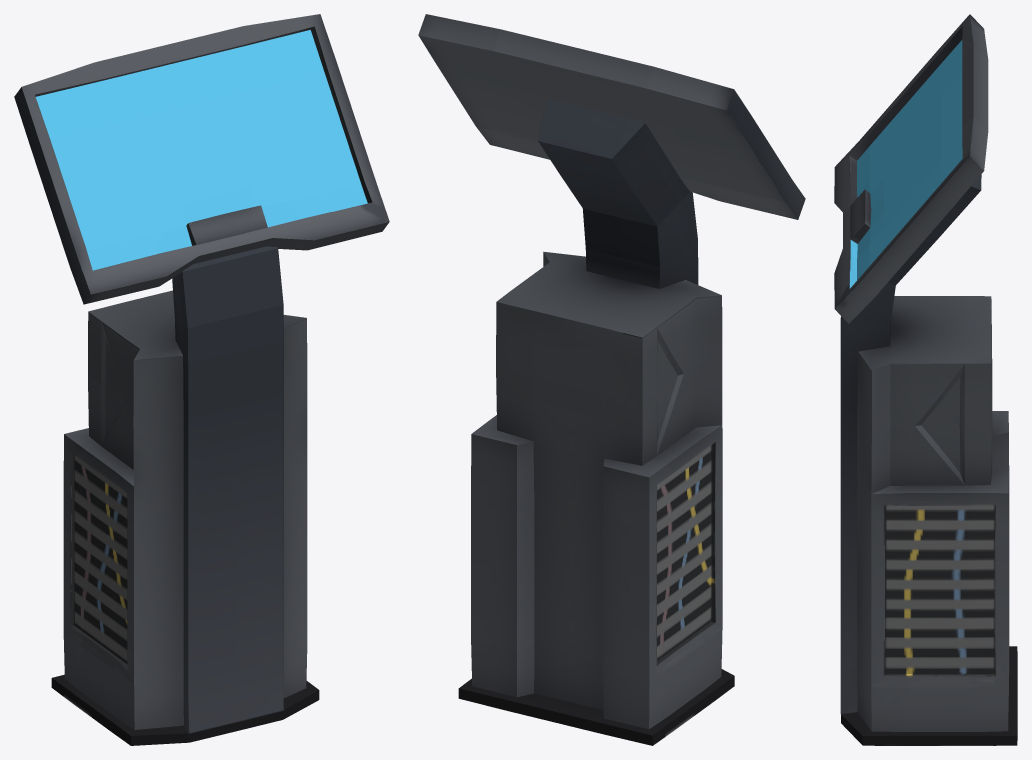
The model's file is TerminalFbx.fbx.
3 views of the same model, side by side, from view 1: azimuth 30°, elevation 25°; view 2: azimuth 150°, elevation 25°; view 3: azimuth 270°, elevation 25° (orthographic). The views are drawn at different scales.
Parts seen in each view (by area): view 1: Cube.001, Cube.002; view 2: Cube.001, Cube.002; view 3: Cube.001, Cube.002.
Boxes of the visible parts, x1,y1,x2,y2 form: Cube.001: (51,246,319,745); Cube.002: (14,14,389,304); Cube.001: (458,99,734,745); Cube.002: (418,14,805,219); Cube.001: (840,174,1017,745); Cube.002: (834,14,988,323).
Size of the model in its own units: 59.37 by 121 by 32.31.
Materials: 2 (2 with a texture image).
